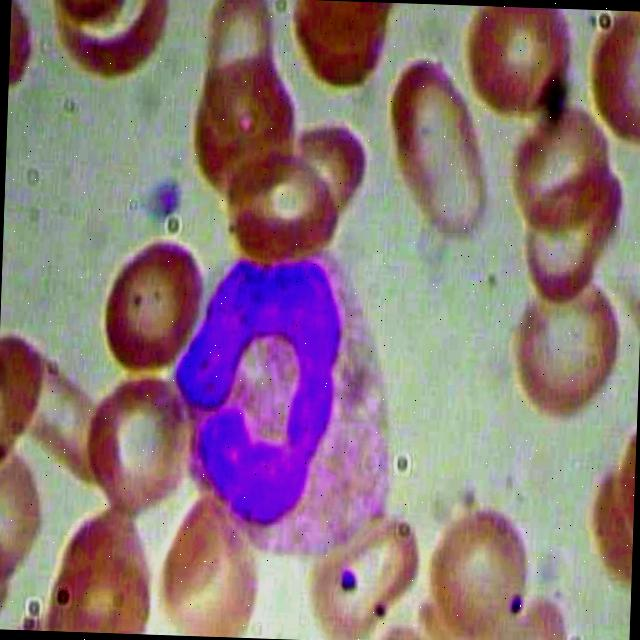RBC: (382, 54, 494, 246), (143, 485, 267, 638), (507, 264, 622, 422), (92, 236, 215, 380), (82, 369, 205, 513), (41, 504, 166, 634), (424, 497, 533, 640), (306, 511, 422, 640), (504, 106, 610, 240), (462, 5, 584, 120), (220, 148, 344, 260), (203, 0, 279, 148), (0, 323, 42, 478)
WBC: (154, 242, 402, 558)
